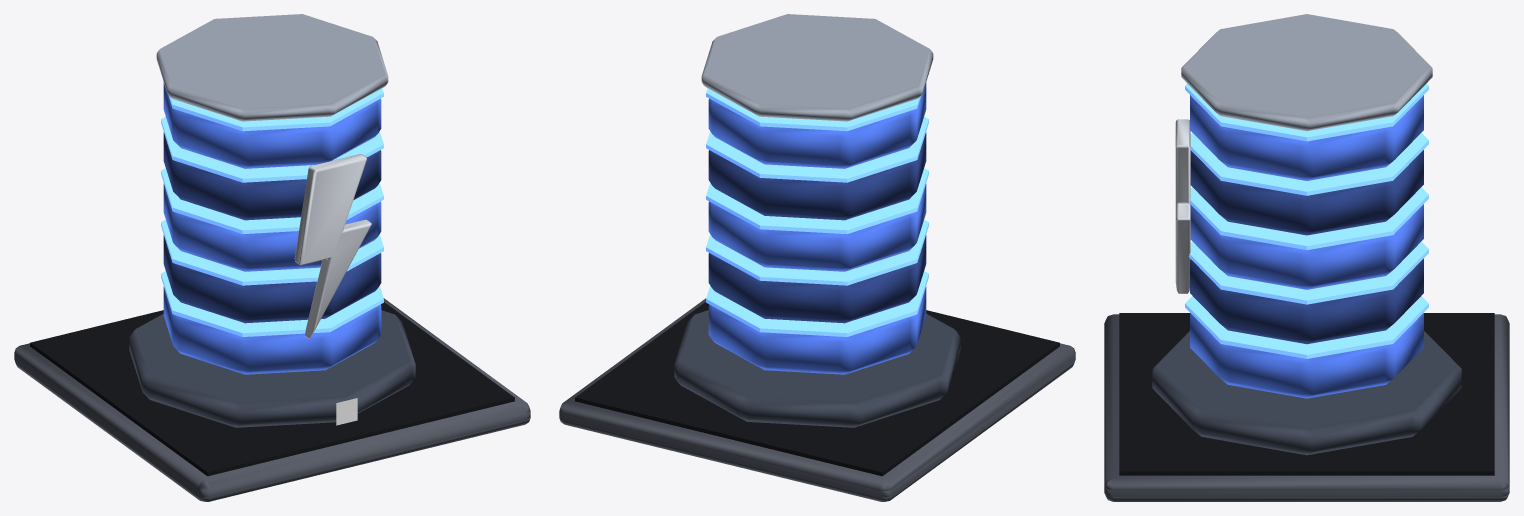
File: dynamodb.glb
The picture shows the model from 3 angles, left to right: view 1: azimuth 30°, elevation 25°; view 2: azimuth 150°, elevation 25°; view 3: azimuth 270°, elevation 25°; orthographic projection. The views are drawn at different scales.
Parts seen in each view (by area): view 1: body.rubber, body.accent, body.steel_light, body.steel, body.concrete, body.accent_glow, body.accent_dark, body.white; view 2: body.accent, body.rubber, body.steel_light, body.steel, body.accent_dark, body.accent_glow, body.concrete; view 3: body.accent, body.rubber, body.steel_light, body.steel, body.accent_glow, body.accent_dark, body.concrete, body.white.
Part boxes in pixels (box(x1,y1,x2,y2)): body.rubber: box(30, 302, 514, 476); body.accent: box(163, 82, 381, 374); body.steel_light: box(156, 14, 388, 121); body.steel: box(129, 310, 415, 427); body.concrete: box(14, 298, 530, 501); body.accent_glow: box(161, 88, 383, 336); body.accent_dark: box(163, 132, 381, 323); body.white: box(294, 154, 371, 338); body.accent: box(708, 82, 926, 374); body.rubber: box(575, 302, 1059, 476); body.steel_light: box(701, 14, 933, 121); body.steel: box(674, 310, 960, 427); body.accent_dark: box(708, 132, 926, 323); body.accent_glow: box(706, 88, 928, 336); body.concrete: box(559, 298, 1075, 501); body.accent: box(1190, 95, 1423, 398); body.rubber: box(1119, 313, 1494, 475); body.steel_light: box(1181, 14, 1432, 131); body.steel: box(1152, 331, 1461, 455); body.accent_glow: box(1185, 83, 1428, 358); body.accent_dark: box(1190, 150, 1423, 344); body.concrete: box(1104, 314, 1509, 501); body.white: box(1175, 119, 1190, 293).
Bounding box in the file's own units: 1.08 × 1.04 × 1.08.
